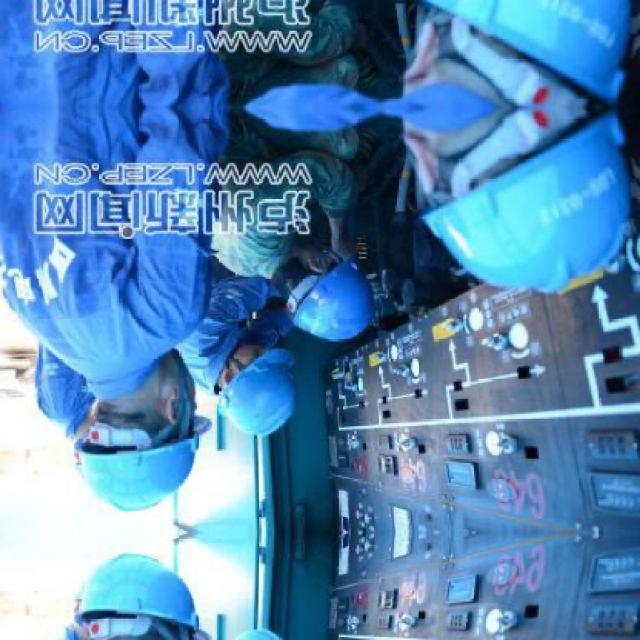con casco: (53, 350, 222, 512), (257, 243, 372, 347), (199, 325, 295, 443)
